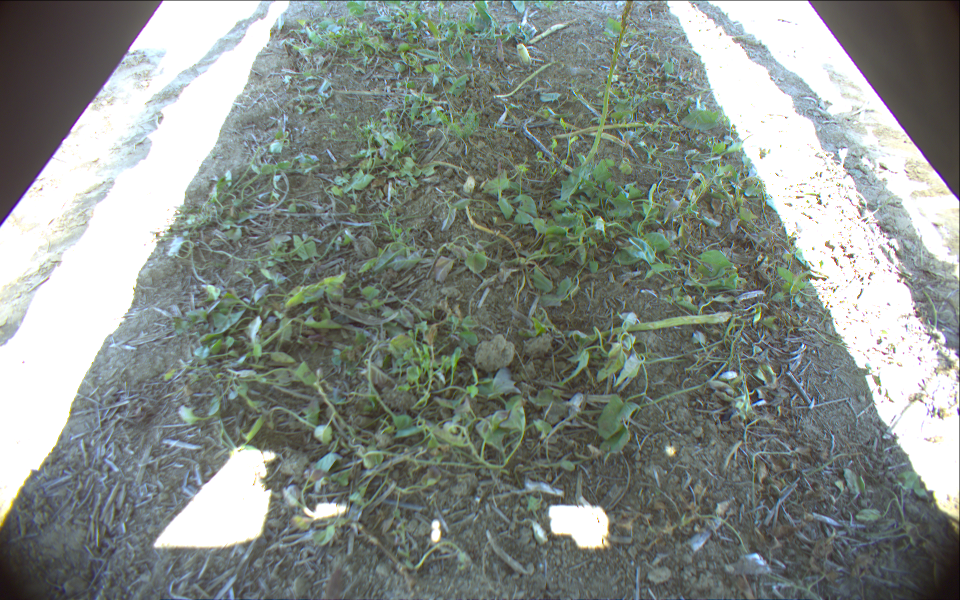aspa: (576, 1, 638, 177)
